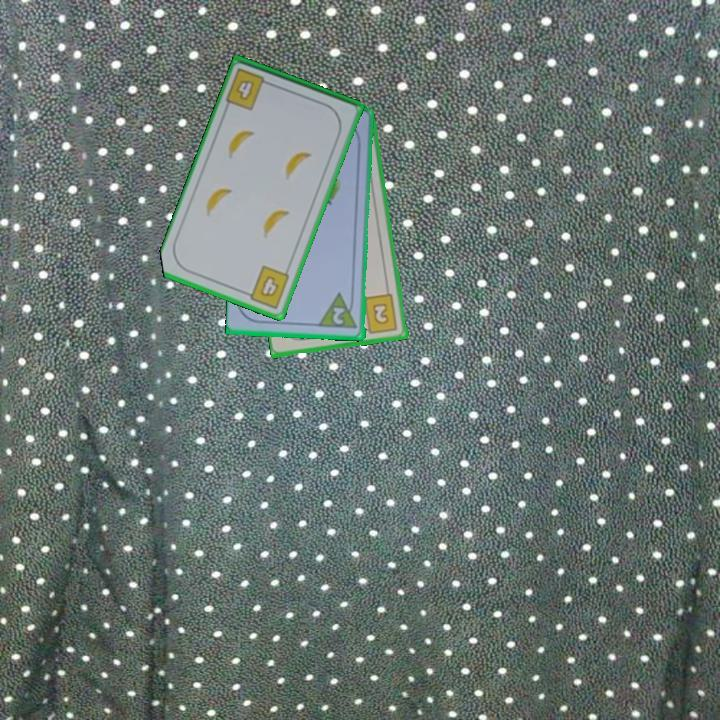2b: (359, 291, 401, 337)
2p: (317, 290, 360, 332)
4b: (241, 262, 293, 312), (223, 65, 276, 113)
